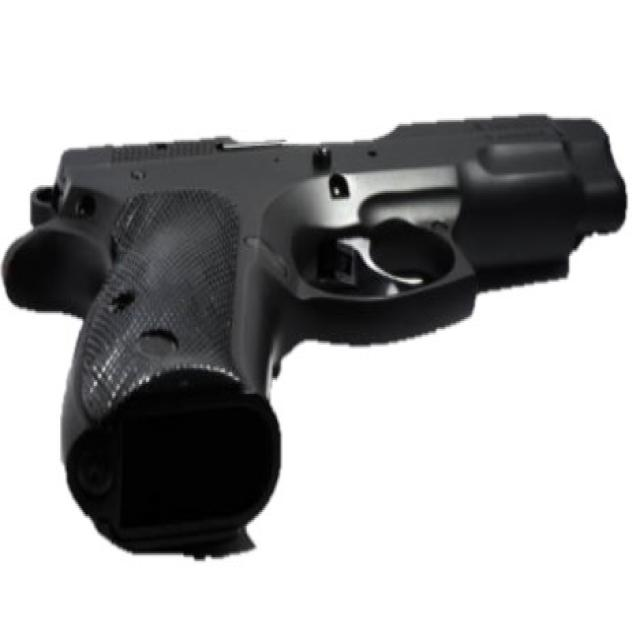pistol: (1, 104, 637, 568)
